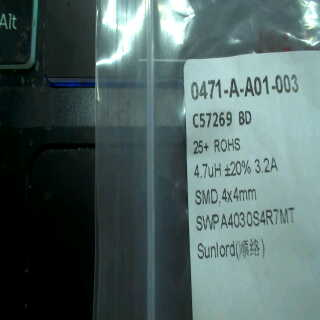4.7uH: (193, 159, 223, 180)
